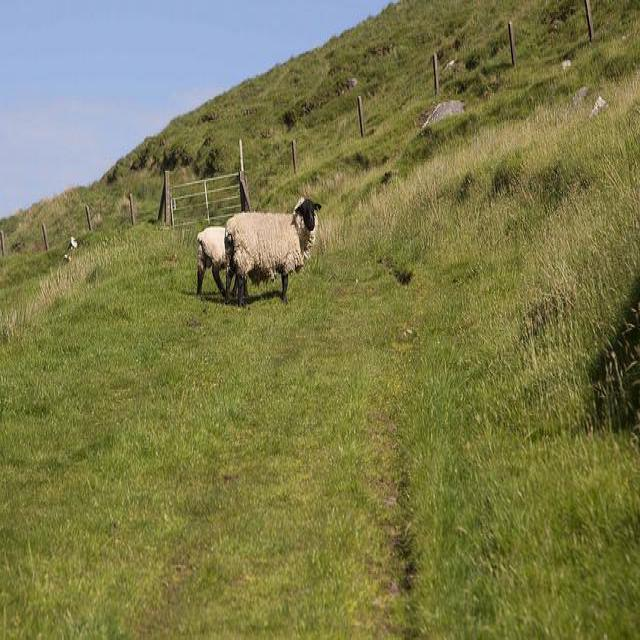Sheep: (224, 198, 324, 309), (194, 225, 228, 298)
